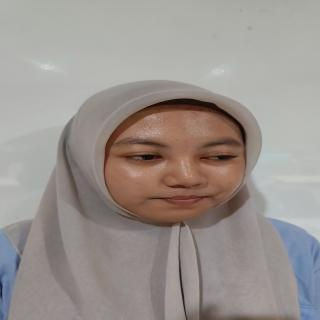Netral: (97, 100, 259, 228)
